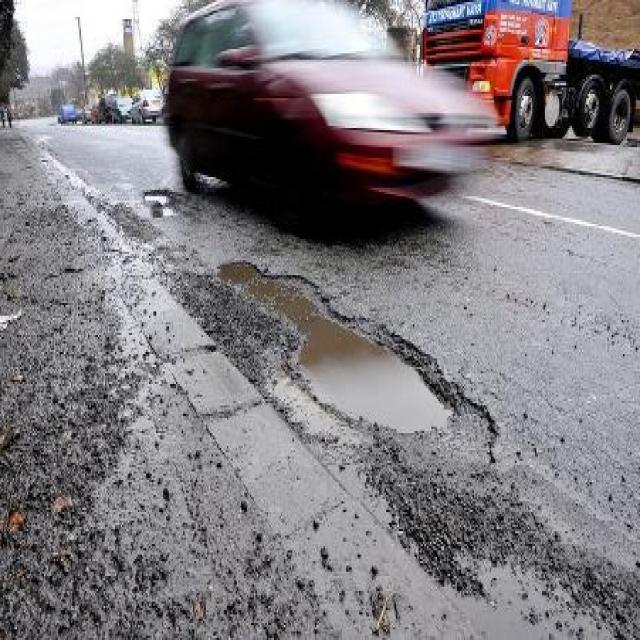Pothole: (213, 253, 467, 437), (142, 185, 182, 217)
